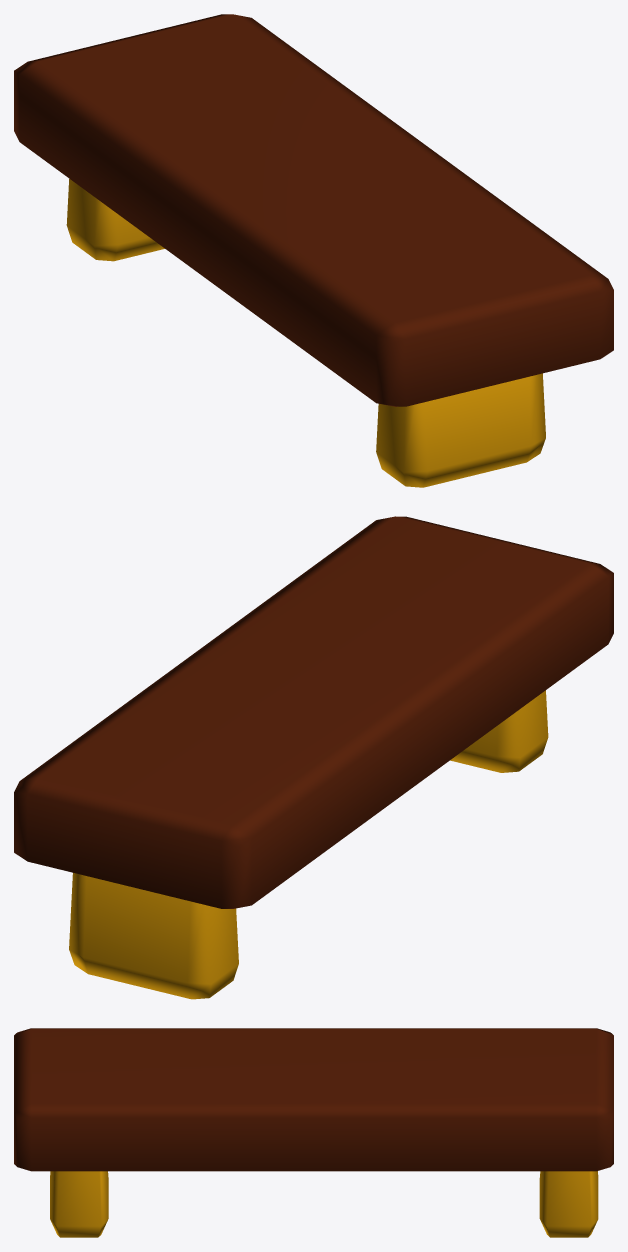
Rendered from BenchLow.fbx.
3 renders of one model, top to bottom at view 1: azimuth 30°, elevation 25°; view 2: azimuth 150°, elevation 25°; view 3: azimuth 270°, elevation 25°, orthographic. The views are drawn at different scales.
Parts seen in each view (by area): view 1: Bench1; view 2: Bench1; view 3: Bench1.
Part boxes in pixels (left/top/right/bottom): Bench1: left=14, top=14, right=613, bottom=487; Bench1: left=14, top=516, right=613, bottom=999; Bench1: left=14, top=1028, right=613, bottom=1237.
Size of the model in its own units: 0.4903 by 0.3787 by 1.39.
